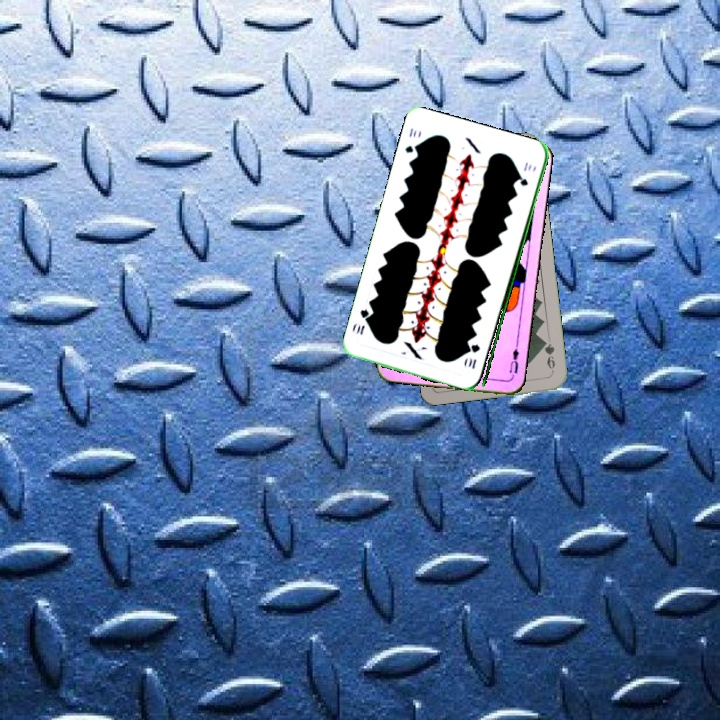EU: (505, 340, 521, 380)
G10: (401, 124, 422, 156), (464, 340, 482, 371)
G9: (539, 336, 558, 375)
